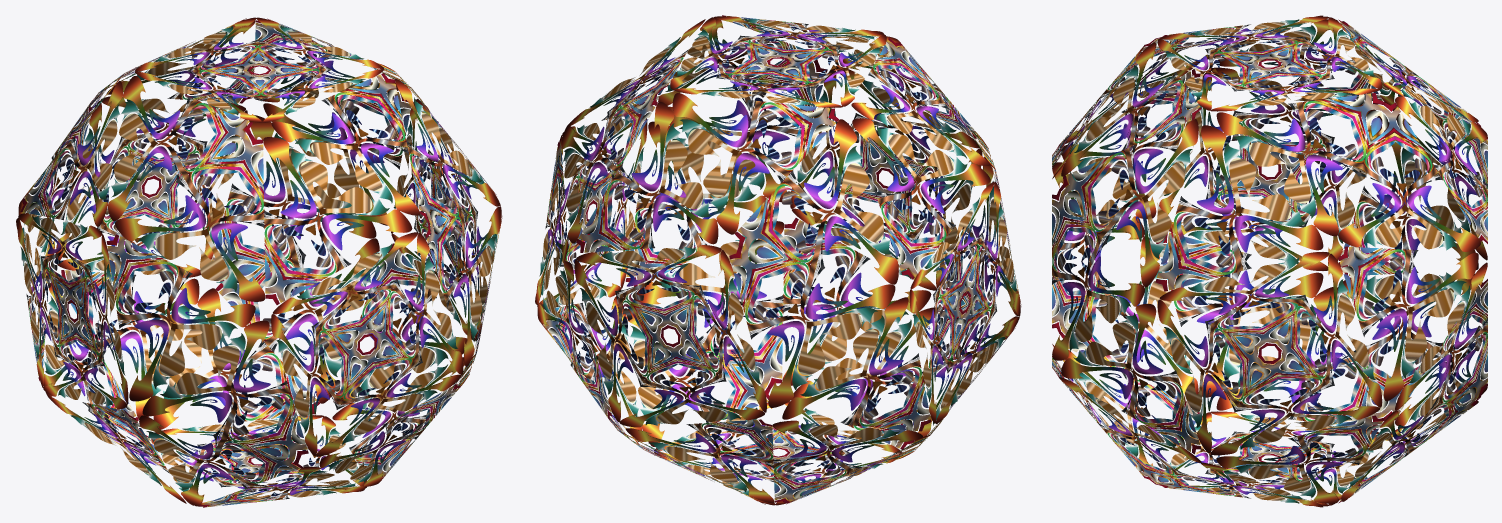
Rendered from SnubCube12.gltf.
3 views of the same model, side by side, from view 1: azimuth 30°, elevation 25°; view 2: azimuth 150°, elevation 25°; view 3: azimuth 270°, elevation 25° (orthographic).
Parts seen in each view (by area): view 1: SnubCube12; view 2: SnubCube12; view 3: SnubCube12.
Part boxes in pixels (x1,y1,x2,y2): SnubCube12: (16,17,502,507); SnubCube12: (535,15,1021,505); SnubCube12: (1052,15,1487,507).
Bounding box in the file's own units: 2.29 × 2.29 × 2.29.
1 material, 1 textured.
